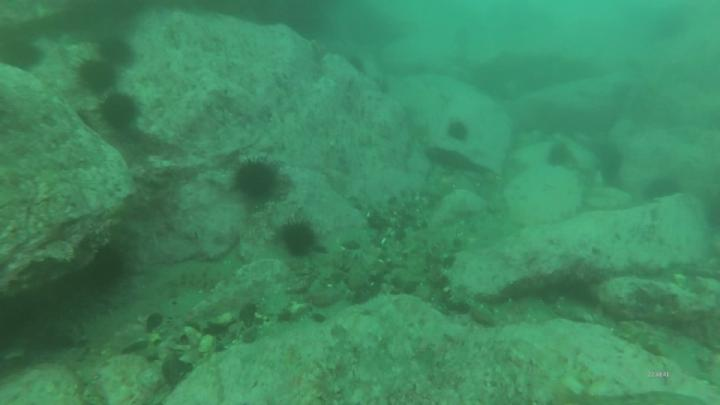echinus: (1, 33, 51, 78), (235, 158, 281, 200), (97, 91, 141, 133), (85, 247, 130, 285), (75, 58, 120, 94), (279, 219, 318, 260), (95, 35, 136, 69), (644, 176, 680, 202), (546, 141, 570, 170), (446, 117, 470, 144)
holothurian: (97, 350, 169, 405), (17, 359, 88, 403), (303, 356, 350, 405), (203, 353, 229, 405)
